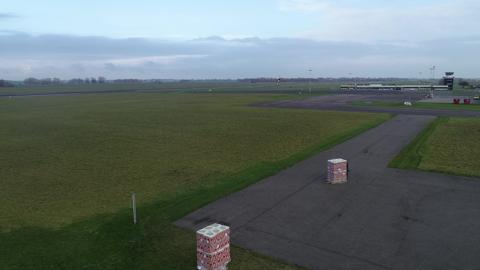RockwoolPallet: (197, 222, 231, 270)
